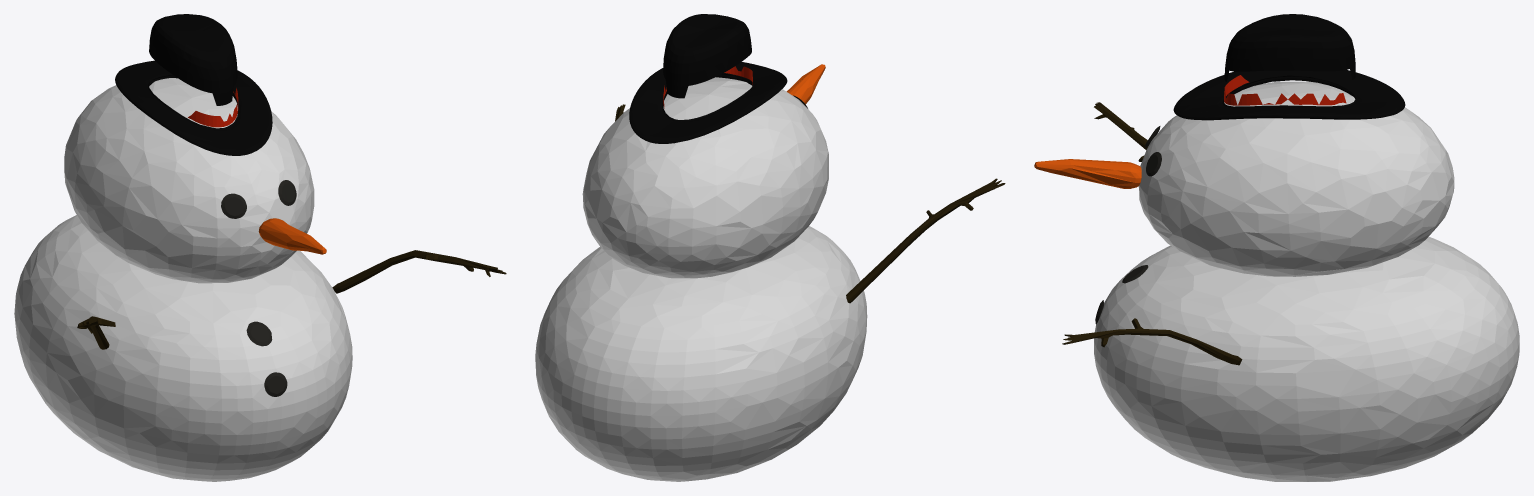
Rendered from sh-bsby-boneco-de-neve.glb.
The picture shows the model from 3 angles, left to right: view 1: azimuth 30°, elevation 25°; view 2: azimuth 150°, elevation 25°; view 3: azimuth 270°, elevation 25°; orthographic projection. The views are drawn at different scales.
Visible parts, largest first — view 1: Sphere.002_Sphere.006, Circle.010, Cube.059_Cube.089, Circle.006, CENOURA_Cube.003; view 2: Sphere.002_Sphere.006, Circle.010, Cube.059_Cube.089, CENOURA_Cube.003; view 3: Sphere.002_Sphere.006, Circle.010, CENOURA_Cube.003, Cube.059_Cube.089, Circle.006.
Boxes of the visible parts, x1=… form: Sphere.002_Sphere.006: x1=14, y1=78, x2=352, y2=481; Circle.010: x1=115, y1=14, x2=272, y2=155; Cube.059_Cube.089: x1=77, y1=250, x2=506, y2=349; Circle.006: x1=221, y1=180, x2=296, y2=396; CENOURA_Cube.003: x1=258, y1=218, x2=326, y2=254; Sphere.002_Sphere.006: x1=535, y1=77, x2=867, y2=481; Circle.010: x1=629, y1=14, x2=787, y2=143; Cube.059_Cube.089: x1=615, y1=104, x2=1005, y2=303; CENOURA_Cube.003: x1=786, y1=64, x2=825, y2=104; Sphere.002_Sphere.006: x1=1094, y1=81, x2=1519, y2=481; Circle.010: x1=1173, y1=14, x2=1405, y2=120; CENOURA_Cube.003: x1=1034, y1=159, x2=1141, y2=188; Cube.059_Cube.089: x1=1062, y1=102, x2=1242, y2=365; Circle.006: x1=1095, y1=126, x2=1161, y2=323.
Bounding box in the file's own units: 1 × 1 × 0.9993.
